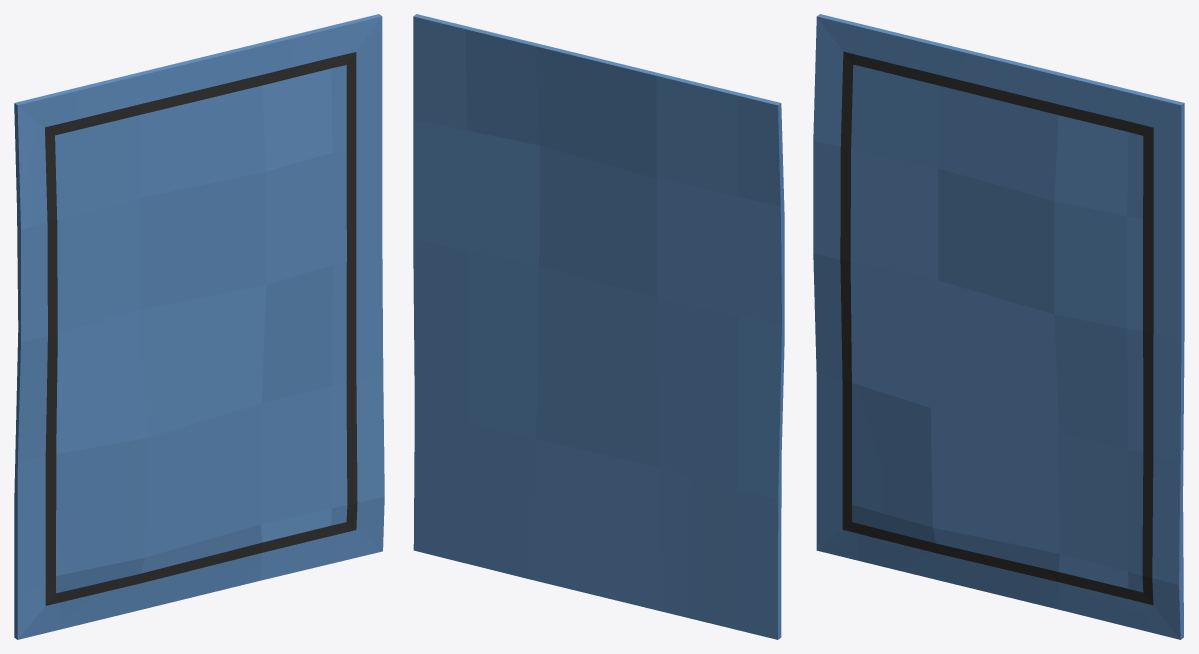
The model's file is Int_WallPaper01_5.fbx.
3 views of the same model, side by side, from view 1: azimuth 30°, elevation 25°; view 2: azimuth 150°, elevation 25°; view 3: azimuth 330°, elevation 25° (orthographic).
Visible parts, largest first — view 1: Int_WallPaper01_5; view 2: Int_WallPaper01_5; view 3: Int_WallPaper01_5.
Part boxes in pixels (x1,y1,x2,y2): Int_WallPaper01_5: (14, 14, 384, 639); Int_WallPaper01_5: (413, 14, 784, 639); Int_WallPaper01_5: (813, 14, 1184, 639).
Size of what is drawn, in the model's own units: 56.04 by 2.93 by 78.45.
